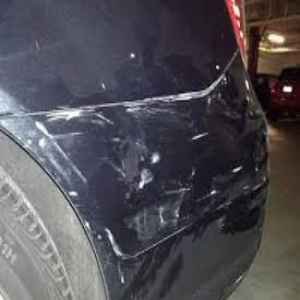bumper_scratch: (43, 66, 266, 267)
